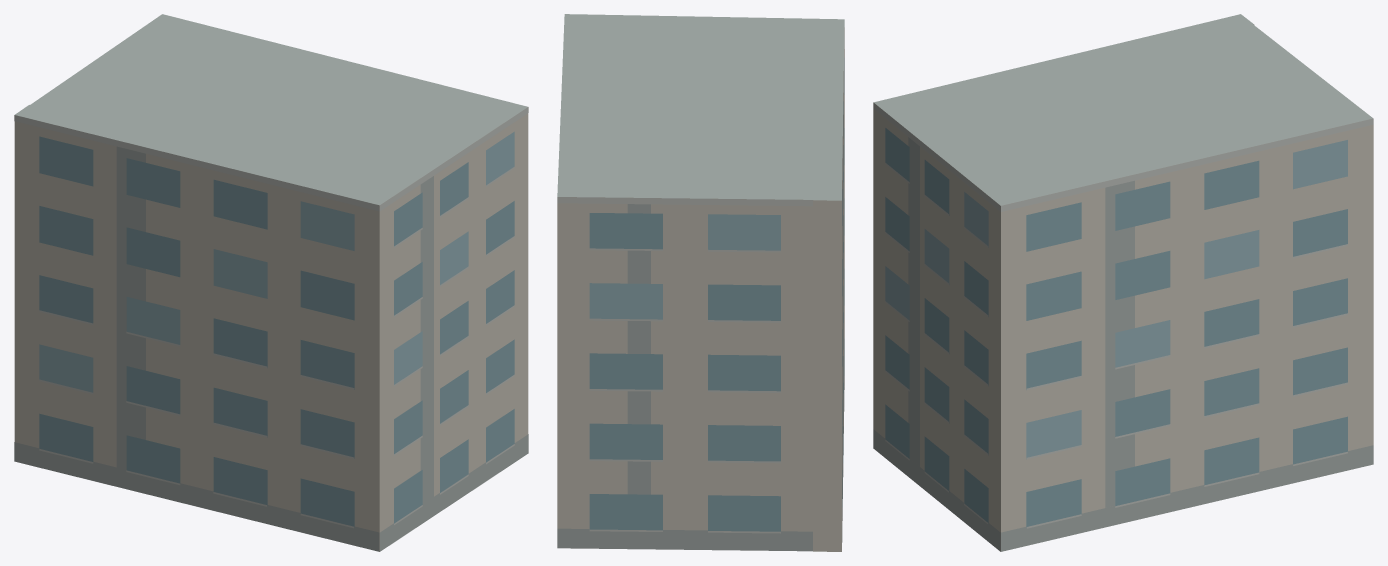
File: survey-upis-32889402.glb
The picture shows the model from 3 angles, left to right: view 1: azimuth 30°, elevation 25°; view 2: azimuth 150°, elevation 25°; view 3: azimuth 270°, elevation 25°; orthographic projection.
Visible parts, largest first — view 1: survey-upis-32889402.tmp; view 2: survey-upis-32889402.tmp; view 3: survey-upis-32889402.tmp.
Part boxes in pixels (bbox=[...]): survey-upis-32889402.tmp: bbox=[14, 14, 528, 551]; survey-upis-32889402.tmp: bbox=[557, 14, 844, 551]; survey-upis-32889402.tmp: bbox=[873, 14, 1373, 551].
Bounding box in the file's own units: 16.06 × 13.5 × 17.69.
